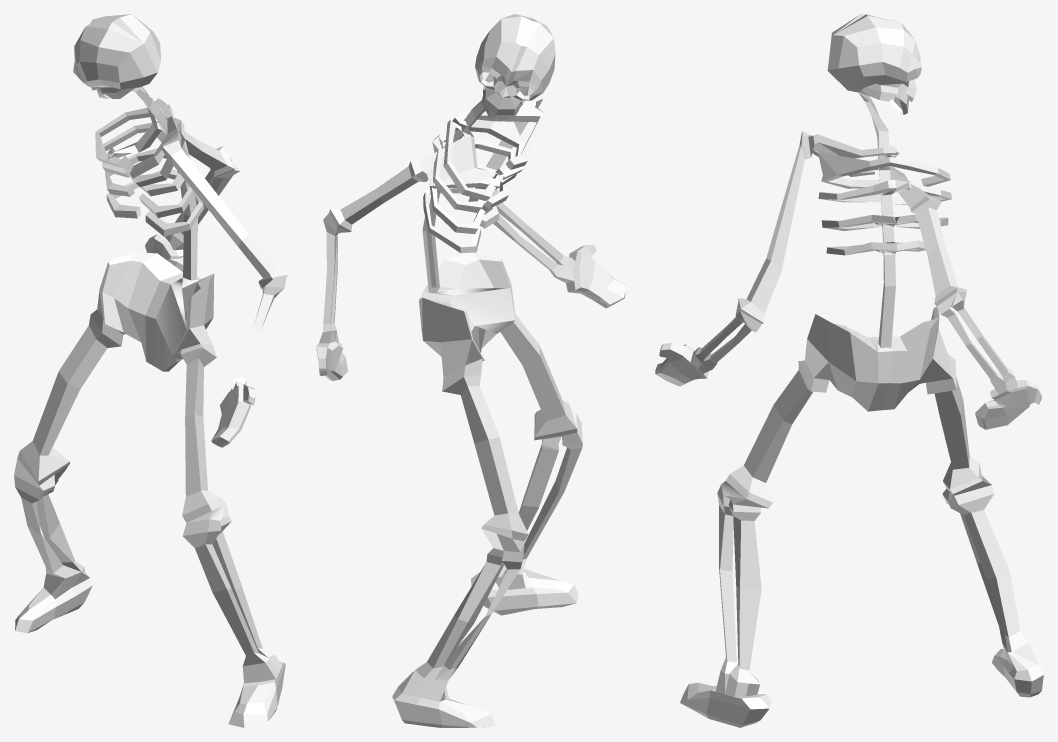
Rendered from SkeletonIdle(69).obj.
3 renders of one model, left to right at view 1: azimuth 30°, elevation 25°; view 2: azimuth 150°, elevation 25°; view 3: azimuth 270°, elevation 25°, orthographic.
Parts seen in each view (by area): view 1: Object002; view 2: Object002; view 3: Object002.
Part boxes in pixels (bbox=[...]): Object002: bbox=[14, 14, 287, 727]; Object002: bbox=[316, 14, 626, 727]; Object002: bbox=[655, 14, 1043, 727].
Size of the model in its own units: 377 by 1131 by 599.
